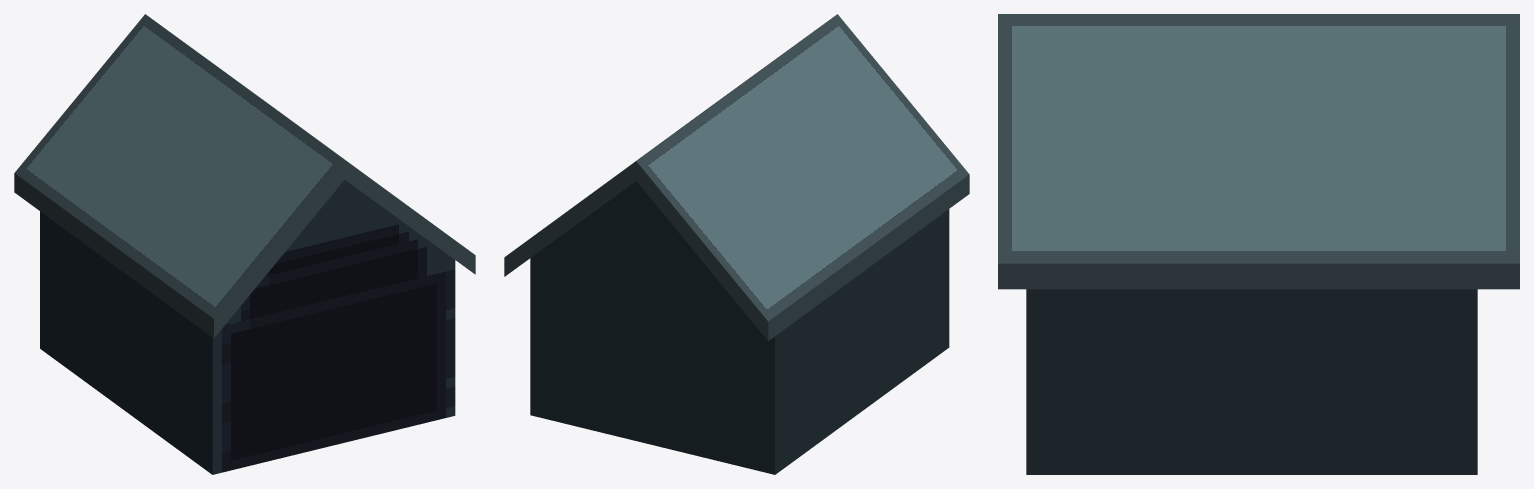
Rendered from house.gltf.
3 views of the same model, side by side, from view 1: azimuth 30°, elevation 25°; view 2: azimuth 150°, elevation 25°; view 3: azimuth 270°, elevation 25° (orthographic). The views are drawn at different scales.
Visible parts, largest first — view 1: cuboid (×2); view 2: cuboid (×2); view 3: cuboid (×2).
Part boxes in pixels (x1,y1,x2,y2): cuboid (×2): [14, 14, 475, 474]; cuboid (×2): [504, 14, 969, 474]; cuboid (×2): [998, 14, 1519, 474].
Bounding box in the file's own units: 0.875 × 0.9375 × 1.16.
2 materials, 2 textured.
